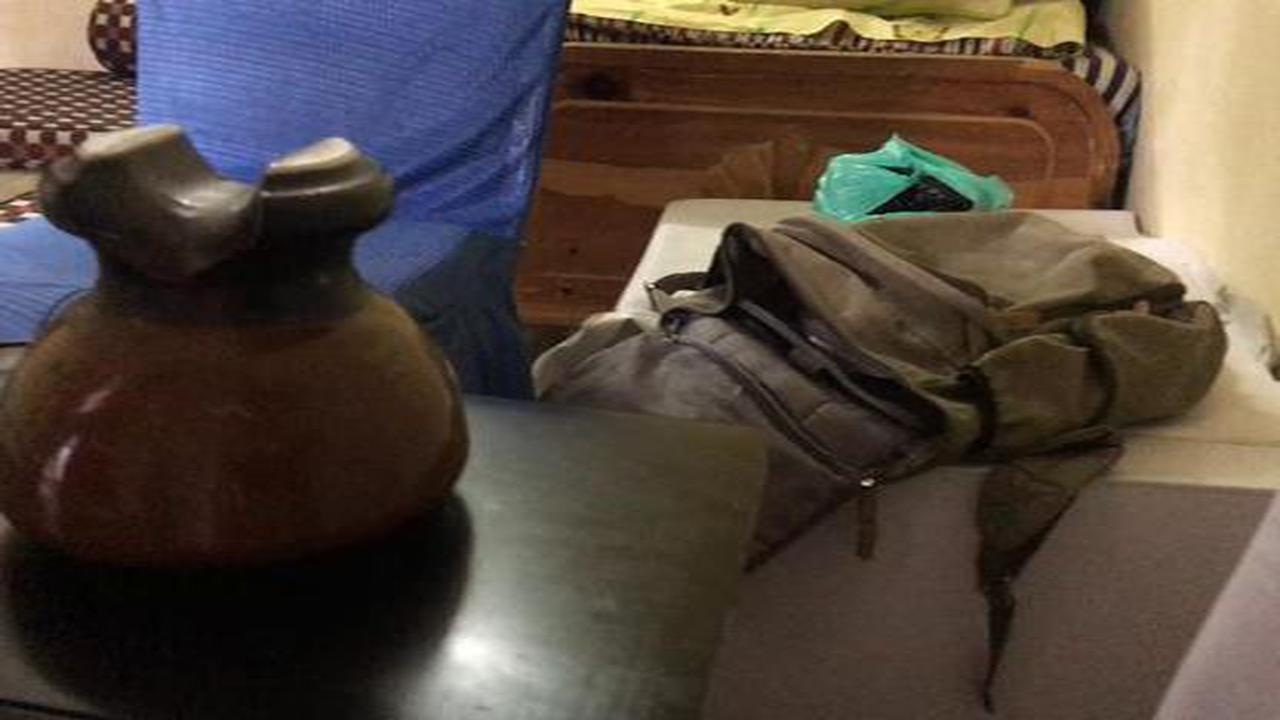insulator_pin: (7, 108, 484, 582)
